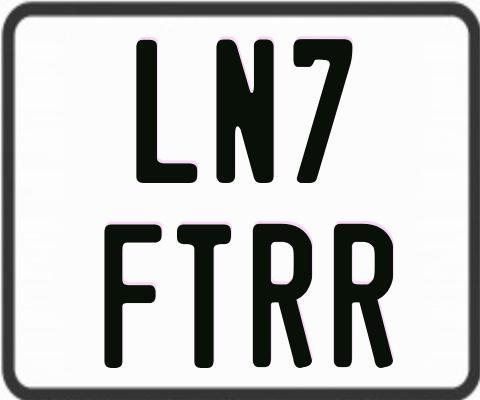7: (291, 39, 350, 187)
F: (103, 221, 162, 370)
L: (135, 40, 200, 184)
N: (213, 38, 276, 182)
R: (251, 221, 314, 367), (333, 223, 395, 370)
T: (175, 221, 234, 366)
